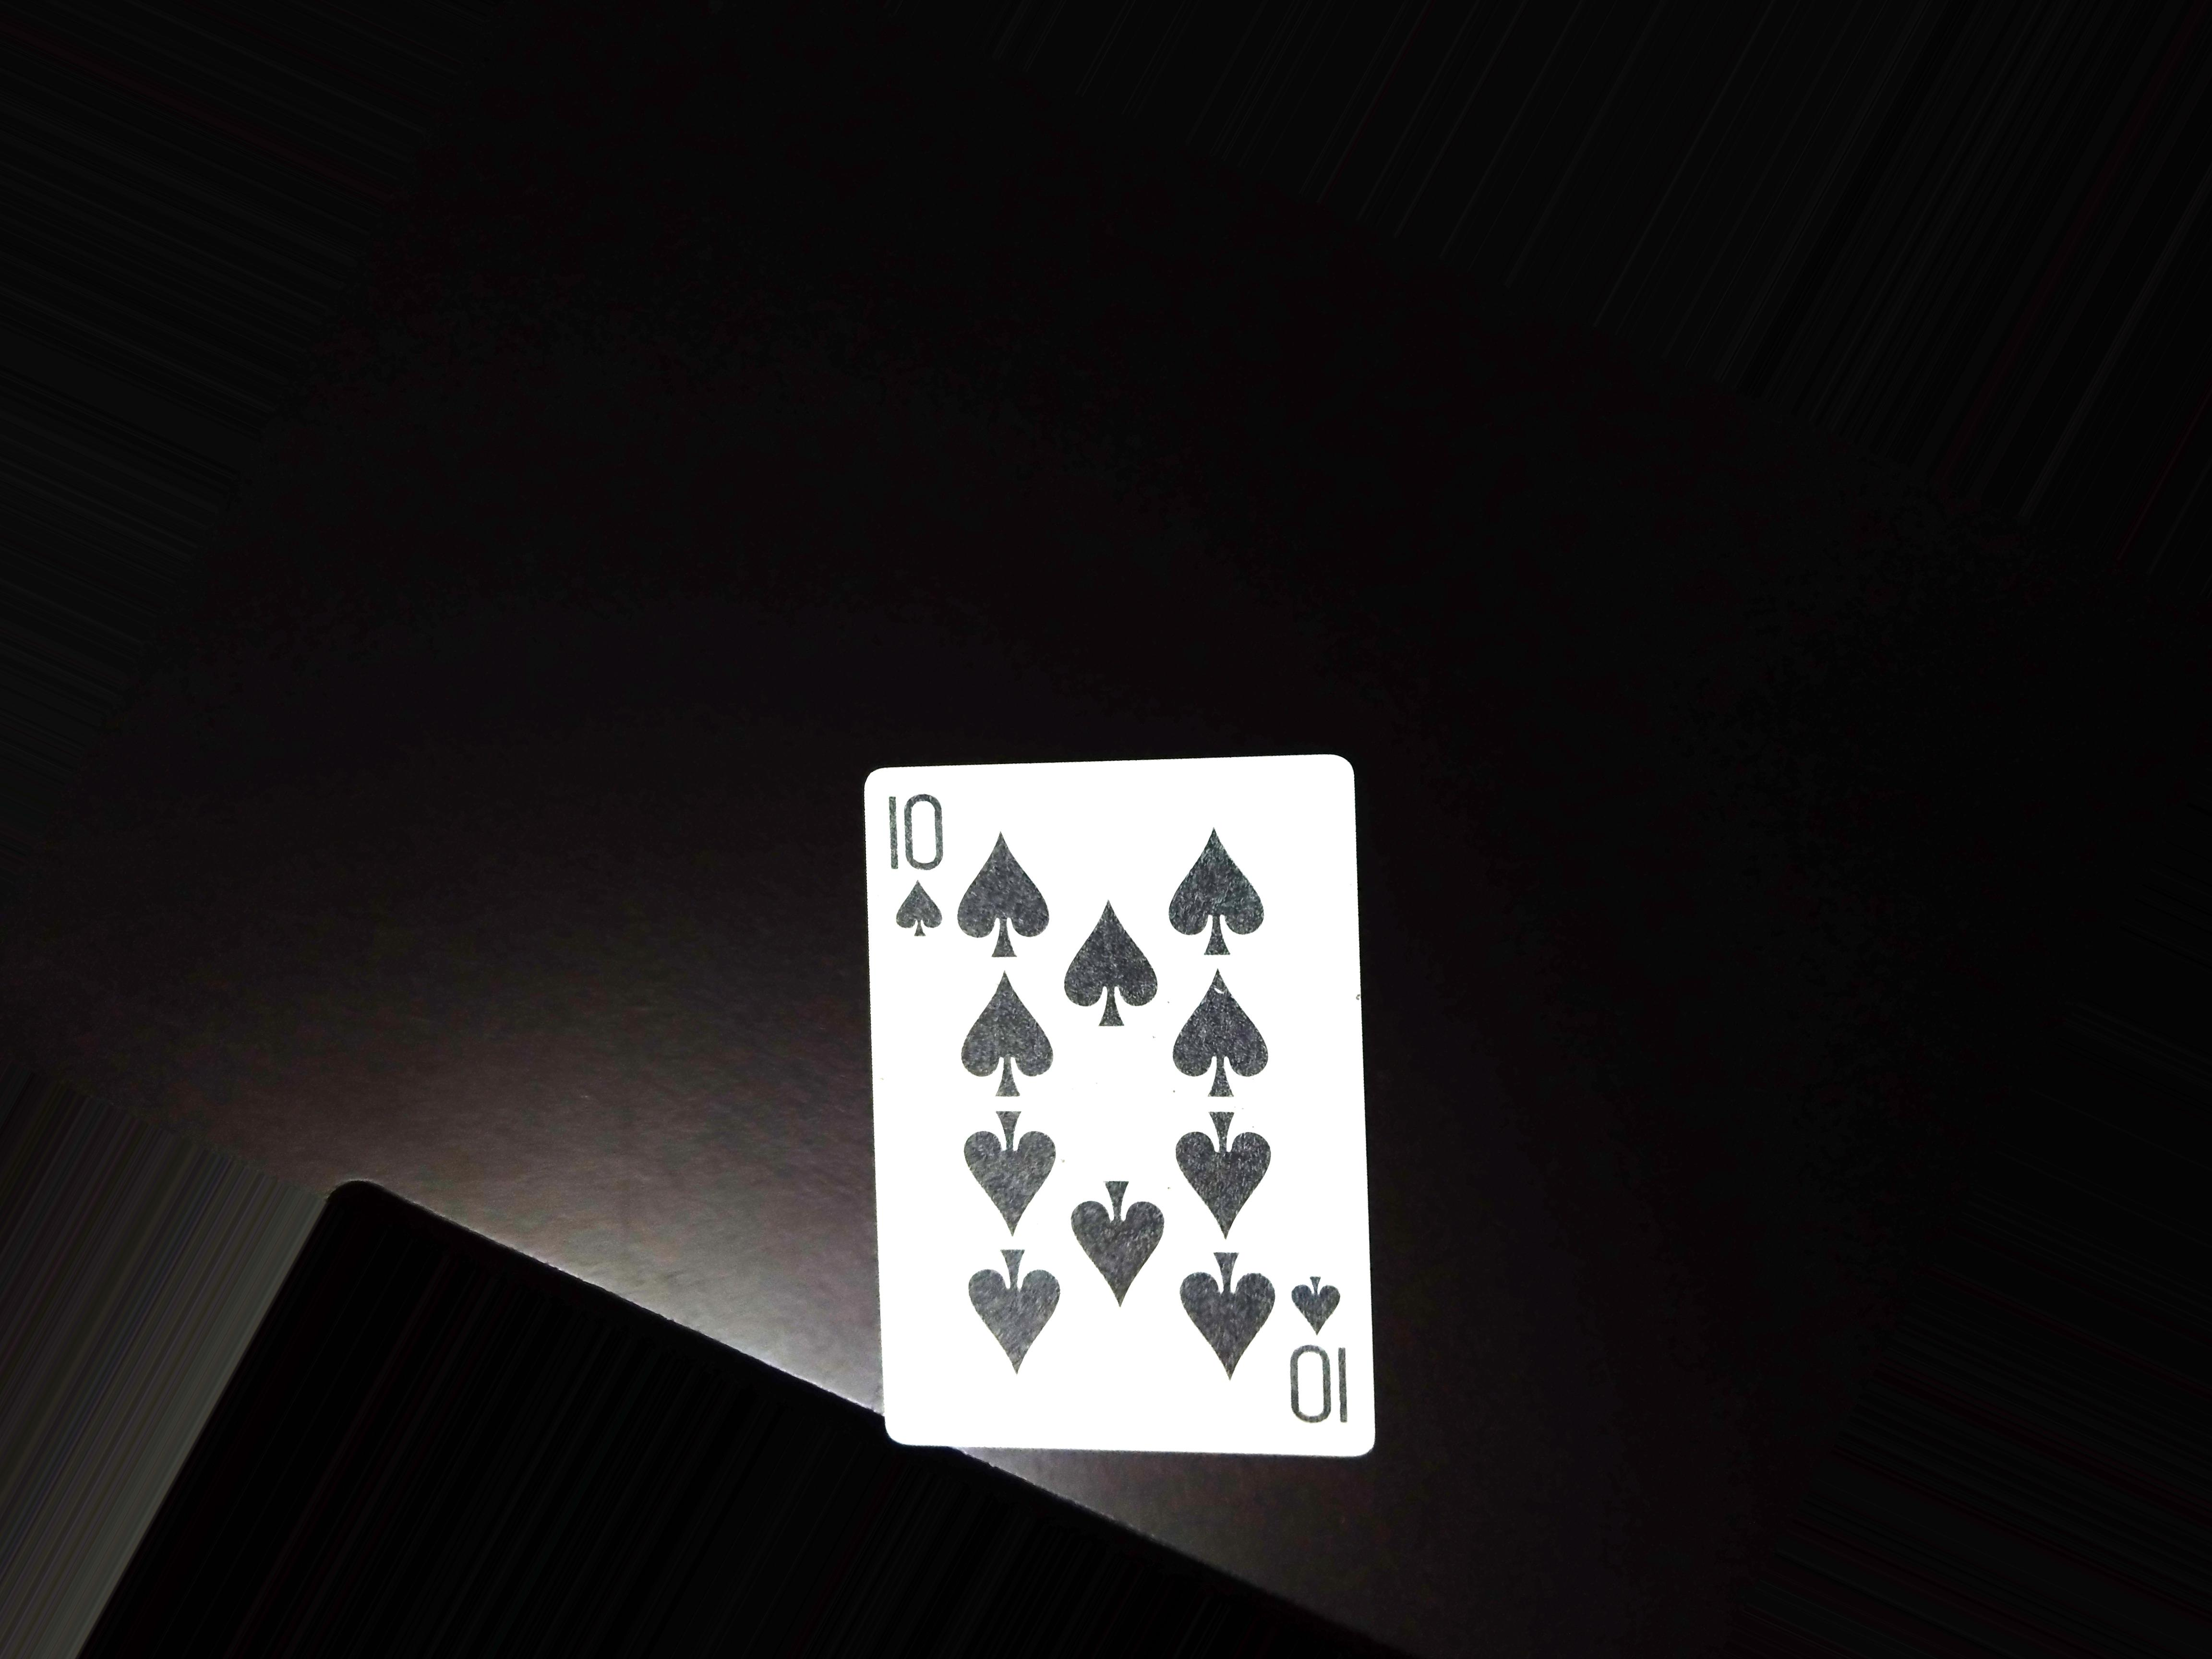10S: (888, 769, 946, 967)
